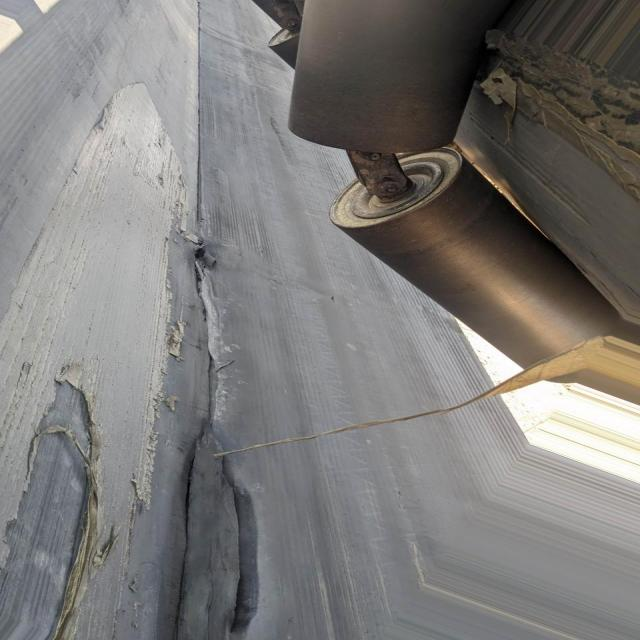Roller: (331, 147, 616, 388), (287, 0, 509, 157)
Tear: (107, 228, 244, 638), (0, 383, 91, 640)
